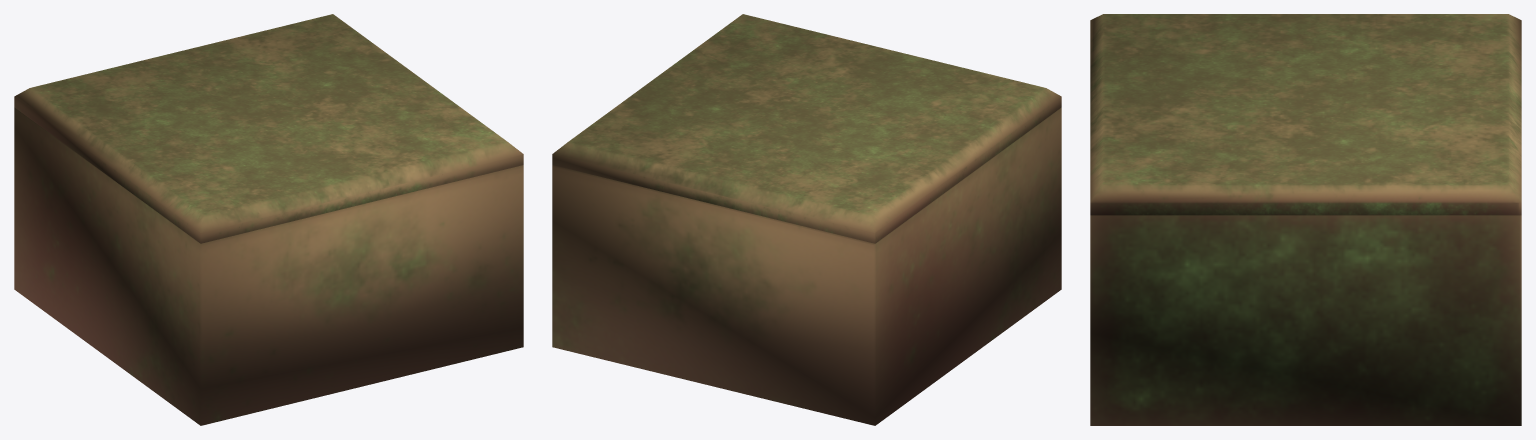
Rendered from Ground01.fbx.
3 views of the same model, side by side, from view 1: azimuth 30°, elevation 25°; view 2: azimuth 150°, elevation 25°; view 3: azimuth 270°, elevation 25° (orthographic). The views are drawn at different scales.
Visible parts, largest first — view 1: Cube.119; view 2: Cube.119; view 3: Cube.119.
Boxes of the visible parts, x1=… form: Cube.119: x1=14, y1=14, x2=523, y2=425; Cube.119: x1=552, y1=14, x2=1061, y2=425; Cube.119: x1=1090, y1=14, x2=1521, y2=425.
Bounding box in the file's own units: 4 × 2.41 × 4.
